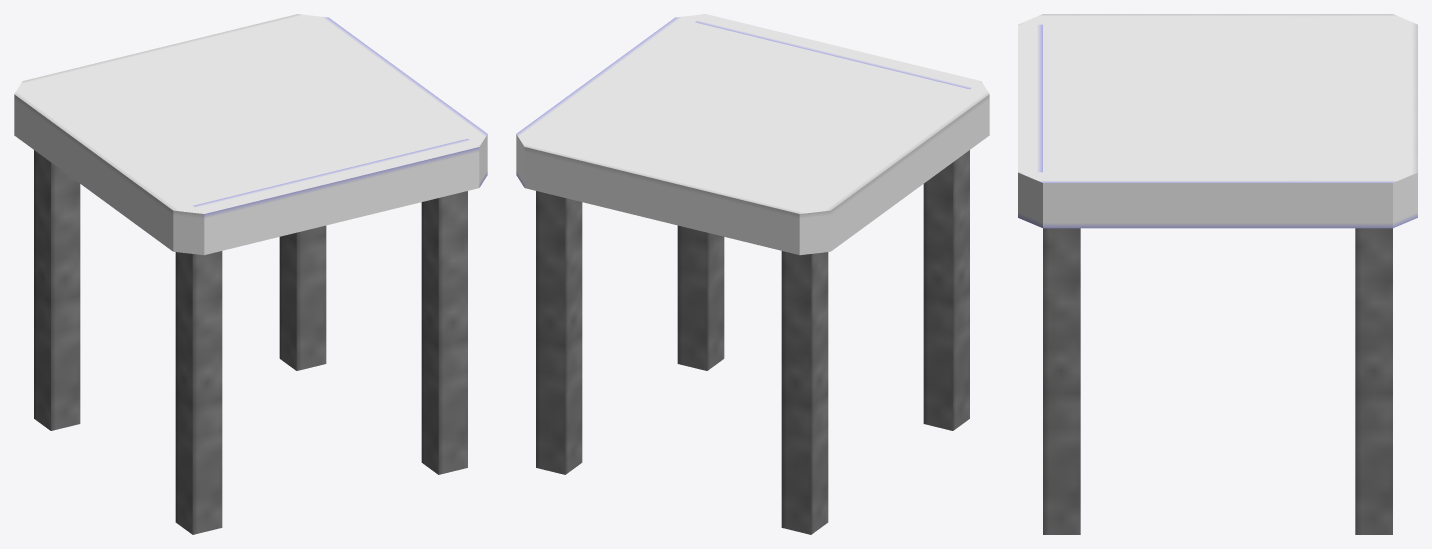
File: ModernTableSingle.dae
The picture shows the model from 3 angles, left to right: view 1: azimuth 30°, elevation 25°; view 2: azimuth 150°, elevation 25°; view 3: azimuth 270°, elevation 25°; orthographic projection. The views are drawn at different scales.
Parts seen in each view (by area): view 1: Top, Legs; view 2: Top, Legs; view 3: Top, Legs.
Boxes of the visible parts, x1,y1,x2,y2 form: Top: (14, 14, 487, 255); Legs: (34, 150, 467, 534); Top: (516, 14, 989, 255); Legs: (536, 150, 969, 534); Top: (1018, 14, 1417, 228); Legs: (1043, 228, 1392, 534).
Size of the model in its own units: 1 by 1 by 1.
